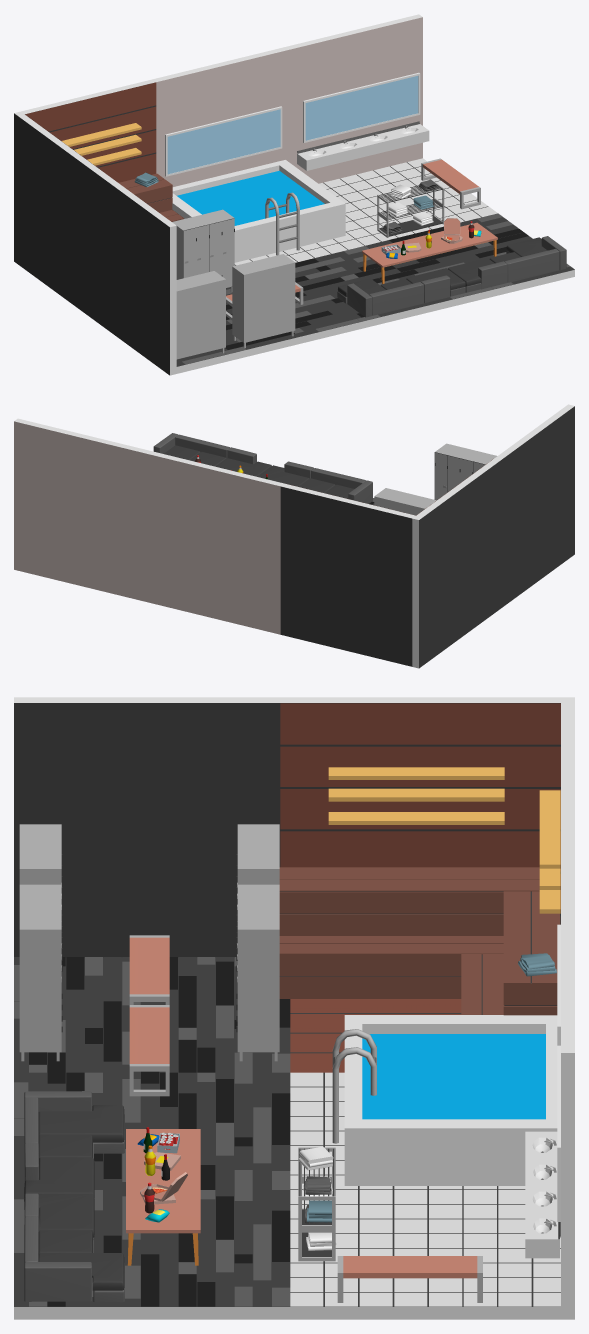
File: room_8.glb
The picture shows the model from 3 angles, top to bottom: view 1: azimuth 30°, elevation 25°; view 2: azimuth 150°, elevation 25°; view 3: azimuth 270°, elevation 25°; orthographic projection. The views are drawn at different scales.
Visible parts, largest first — view 1: Walls_011.010, Walls_166.001, wall_006.003, floor_014.009, floor_007.002, Walls_011.008, picture_054.005, picture_054.006, closet_009.004, Walls_070.001, closet_009.003, closet_009.002 (+17 smaller); view 2: Walls_166.001, Walls_011.010, Walls_011.009, sofa_037.001, sofa_037.002, closet_009.004, closet_009.002; view 3: Walls_011.010, wall_006.002, floor_014.009, floor_007.001, floor_007.002, floor_007.003, Walls_011.008, Walls_070.001, sofa_037.002, sofa_037.001, closet_009.002, closet_009.004 (+35 smaller).
Part boxes in pixels (bbox=[...]): Walls_011.010: bbox=[14, 111, 176, 375]; Walls_166.001: bbox=[153, 14, 422, 186]; wall_006.003: bbox=[25, 82, 156, 182]; floor_014.009: bbox=[319, 158, 497, 245]; floor_007.002: bbox=[295, 246, 441, 334]; Walls_011.008: bbox=[176, 162, 574, 373]; picture_054.005: bbox=[165, 106, 282, 176]; picture_054.006: bbox=[303, 72, 420, 142]; closet_009.004: bbox=[232, 254, 295, 347]; Walls_070.001: bbox=[177, 170, 324, 225]; closet_009.003: bbox=[176, 271, 225, 359]; closet_009.002: bbox=[172, 209, 234, 291]; Walls_166.001: bbox=[14, 418, 284, 634]; Walls_011.010: bbox=[412, 404, 574, 668]; Walls_011.009: bbox=[280, 483, 415, 666]; sofa_037.001: bbox=[258, 461, 372, 503]; sofa_037.002: bbox=[153, 433, 271, 476]; closet_009.004: bbox=[434, 443, 497, 500]; closet_009.002: bbox=[374, 488, 436, 515]; Walls_011.010: bbox=[14, 697, 574, 957]; wall_006.002: bbox=[280, 703, 560, 924]; floor_014.009: bbox=[290, 1190, 560, 1306]; floor_007.001: bbox=[14, 1190, 290, 1306]; floor_007.002: bbox=[14, 1072, 290, 1189]; floor_007.003: bbox=[14, 957, 290, 1072]; Walls_011.008: bbox=[14, 957, 560, 1319]; Walls_070.001: bbox=[362, 1034, 545, 1119]; sofa_037.002: bbox=[24, 1193, 124, 1302]; sofa_037.001: bbox=[24, 1091, 124, 1197]; closet_009.002: bbox=[236, 884, 279, 1061]; closet_009.004: bbox=[19, 884, 62, 1061].
Size of the model in its own units: 12 by 4.2 by 8.
1 material, 1 textured.
